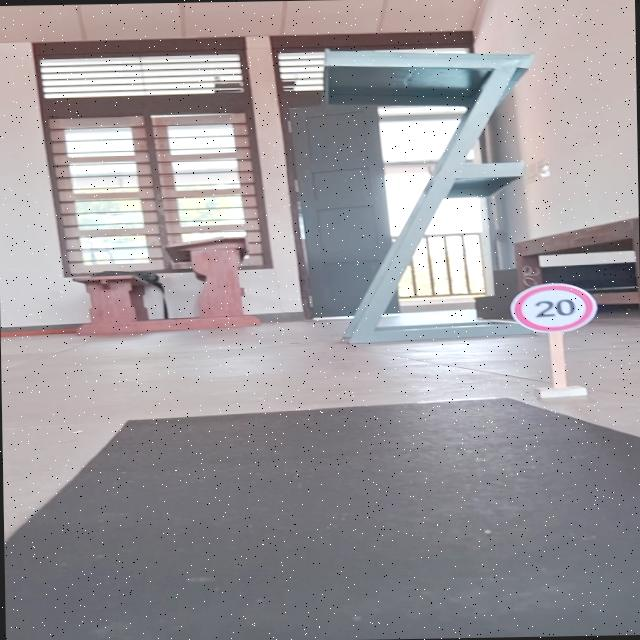Speed20: (505, 280, 602, 335)
